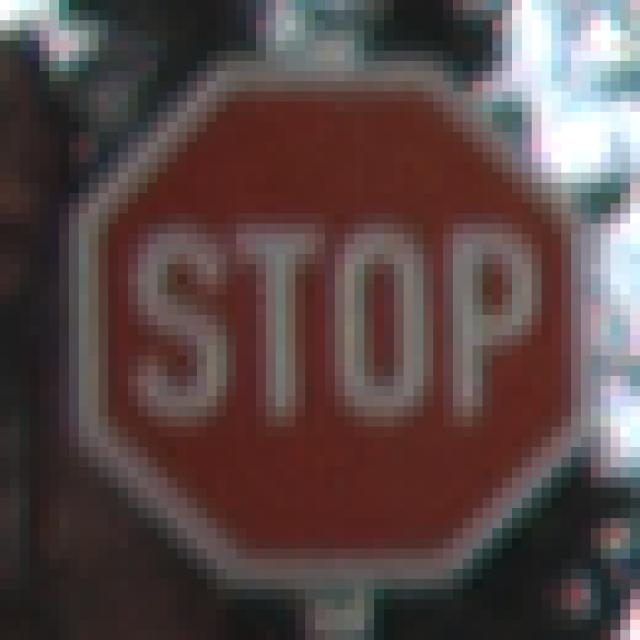STOP: (60, 52, 592, 590)
